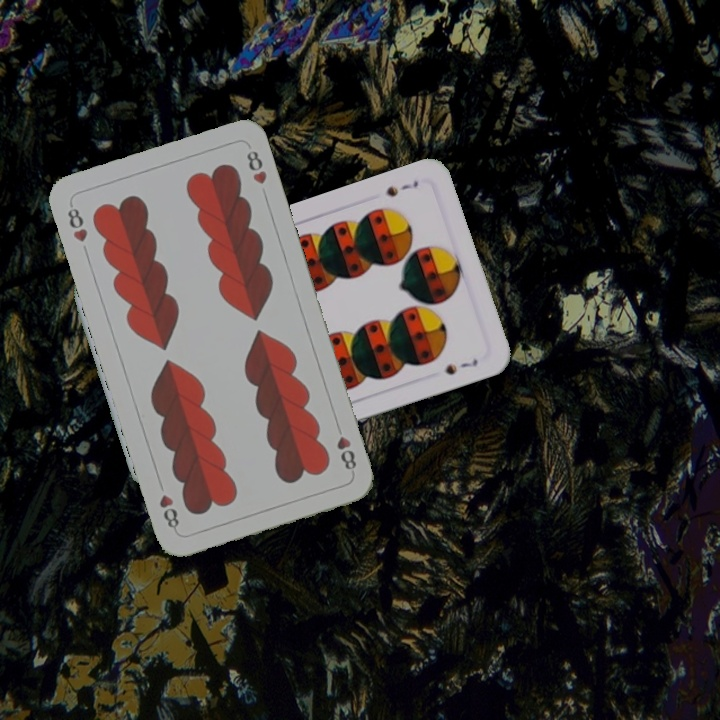H8: (63, 200, 90, 245), (332, 432, 359, 473)
S7: (381, 176, 421, 200)
